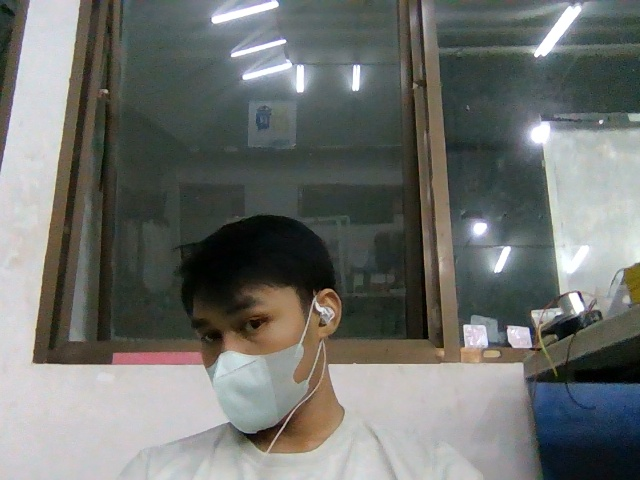mask_on: (206, 341, 309, 435)
